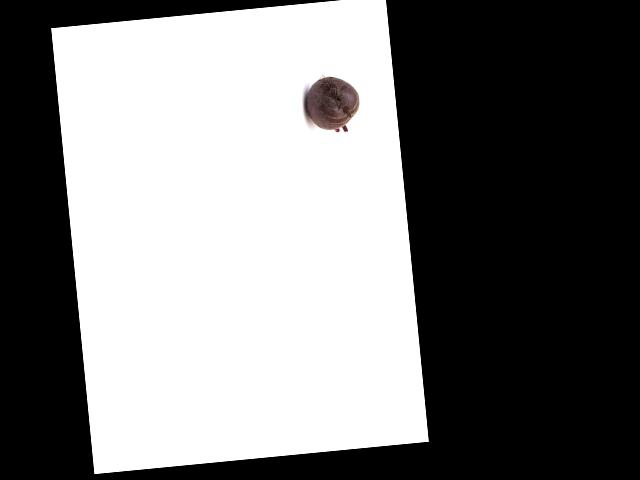beet: (302, 73, 362, 134)
